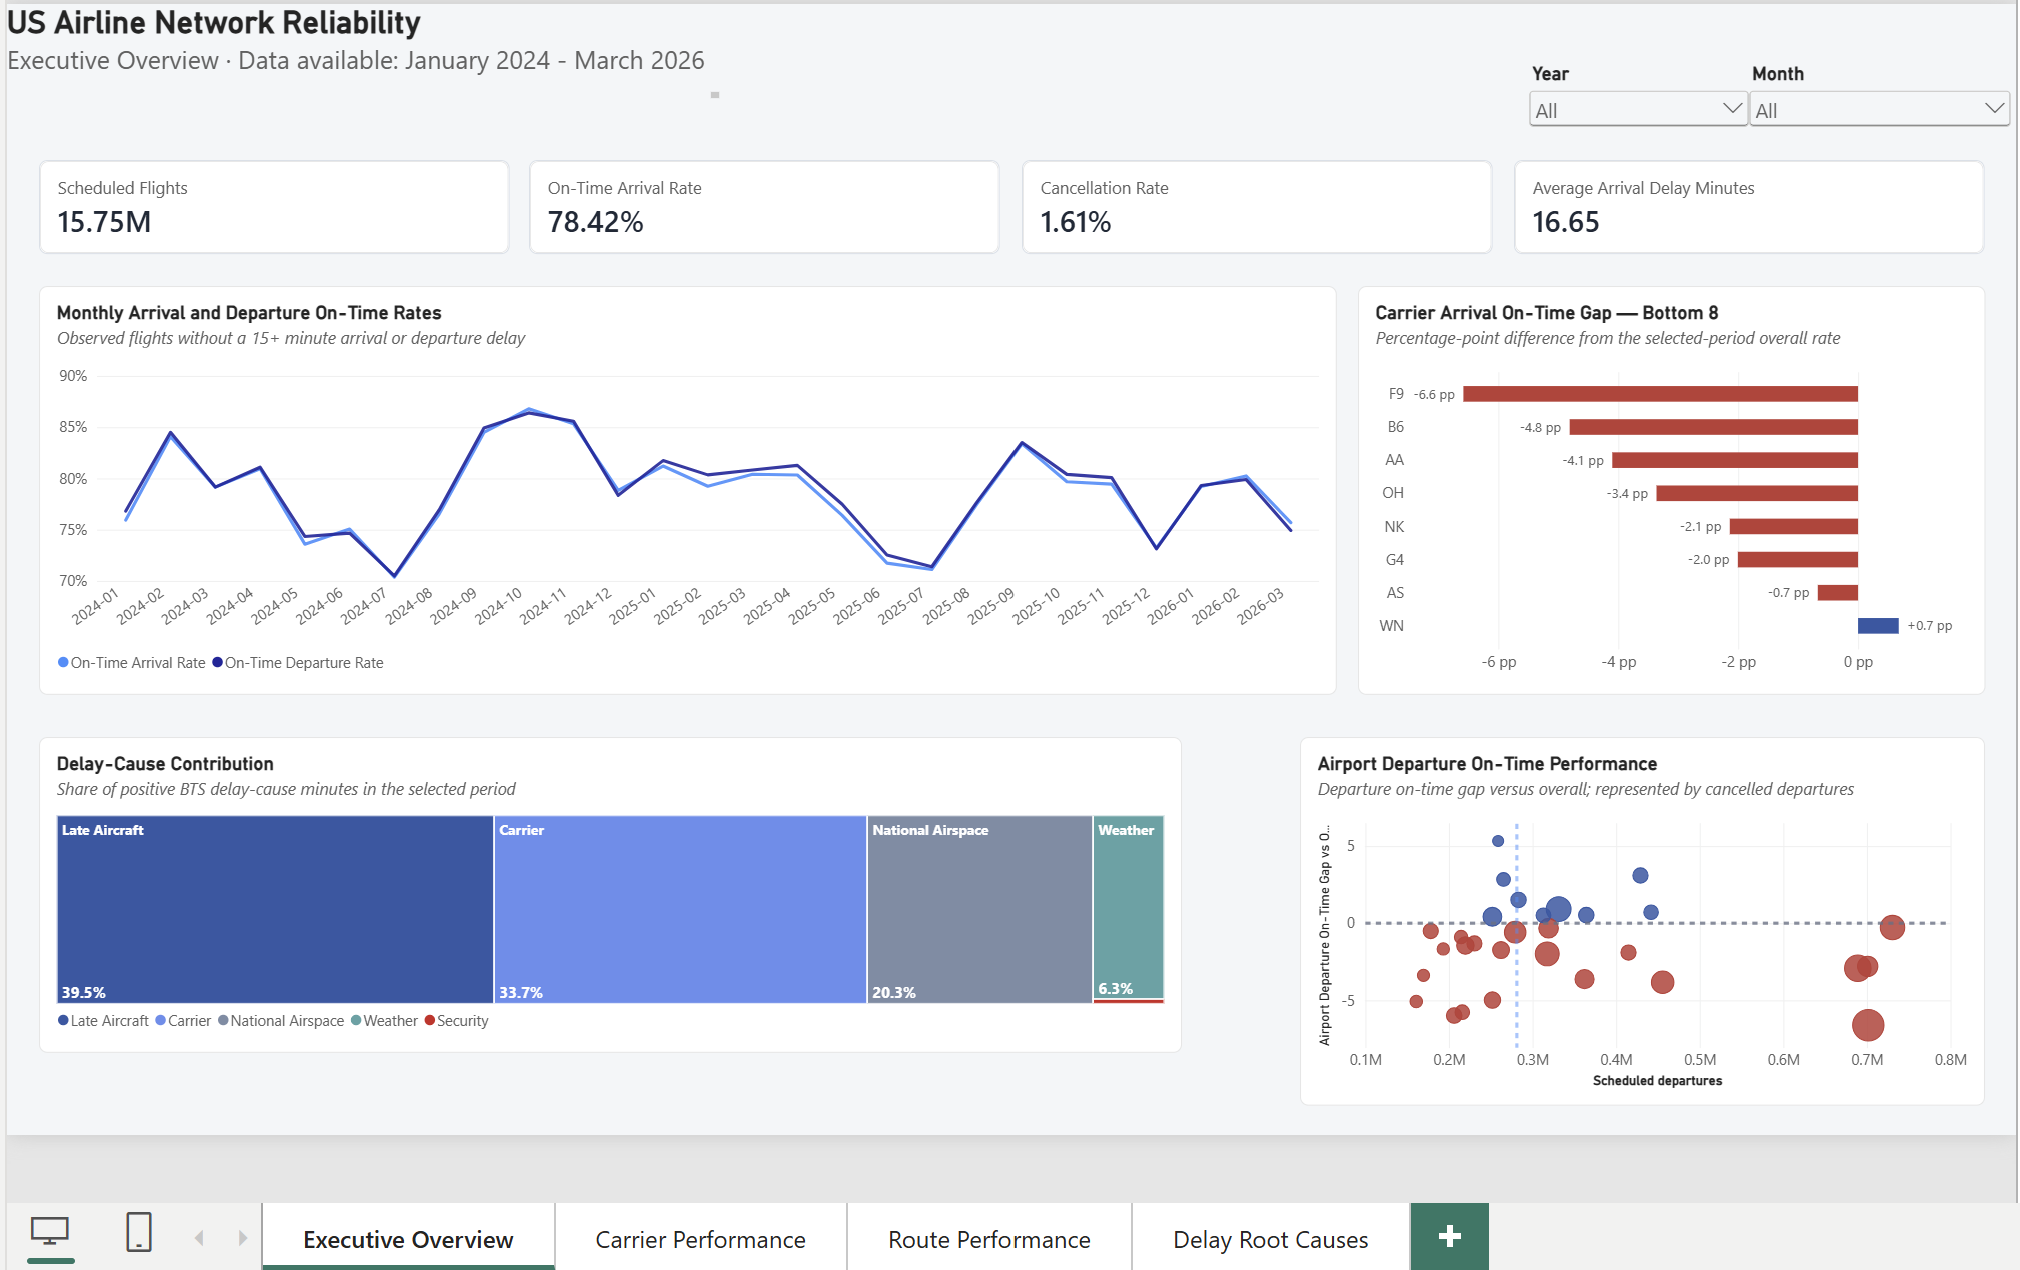

Layout of this report page (visuals, bound fields, positions):
{"tool":"powerbi","page":{"name":"Executive Overview","canvas":[1920,1080],"ordinal":0},"visuals":[{"type":"textbox","title":"US Airline Network Reliability","box":[0,0,680.8,89.9],"z":0},{"type":"lineChart","title":"Monthly Arrival and Departure On-Time Rates","fields":{"Category":["dim_date.year_month"],"Y":["_Measures.On-Time Arrival Rate","_Measures.On-Time Departure Rate"]},"box":[30,270,1240,390],"z":1000},{"type":"cardVisual","fields":{"Data":["_Measures.Scheduled Flights"]},"box":[30,150,450,90],"z":2000},{"type":"cardVisual","fields":{"Data":["_Measures.On-Time Arrival Rate"]},"box":[500,150,450,90],"z":3000},{"type":"cardVisual","fields":{"Data":["_Measures.Cancellation Rate"]},"box":[970,150,450,90],"z":4000},{"type":"cardVisual","fields":{"Data":["_Measures.Average Arrival Delay Minutes"]},"box":[1440,150,450,90],"z":5000},{"type":"slicer","title":"Reporting year","fields":{"Values":["dim_date.calendar_year"]},"box":[1450,55,220,70],"z":6000},{"type":"slicer","title":"Reporting year","fields":{"Values":["dim_date.month_name"]},"box":[1660,55,260,70],"z":7000},{"type":"clusteredBarChart","title":"Carrier Arrival On-Time Gap — Bottom 8","fields":{"Category":["dim_carrier.reporting_airline_code"],"Y":["_Measures.Arrival On-Time Gap vs Overall"]},"box":[1290.8,269.6,600,390],"z":8000},{"type":"treemap","title":"Delay-Cause Contribution","fields":{"Group":["dim_delay_cause.delay_cause_name"],"Values":["_Measures.Delay Cause Share"]},"box":[30,700,1092,302],"z":9000},{"type":"scatterChart","title":"Airport Departure On-Time Performance","fields":{"Category":["dim_airport.airport_code"],"Size":["_Measures.Airport Cancelled Departures"],"X":["_Measures.Airport Scheduled Departures"],"Y":["_Measures.Airport Departure On-Time Gap vs Overall"]},"box":[1235,700,655,352.5],"z":10000}]}

Visuals, with their boxes on the page's 1920x1080 design canvas (x1, y1, x2, y2). These are canvas units, not pixel positions in the 2020x1270 screenshot, which may show the page scaled, cropped or inside an application window:
"US Airline Network Reliability" textbox: {"x1": 0, "y1": 0, "x2": 681, "y2": 90}
"Monthly Arrival and Departure On-Time Rates" lineChart: {"x1": 30, "y1": 270, "x2": 1270, "y2": 660}
cardVisual - _Measures.Scheduled Flights: {"x1": 30, "y1": 150, "x2": 480, "y2": 240}
cardVisual - _Measures.On-Time Arrival Rate: {"x1": 500, "y1": 150, "x2": 950, "y2": 240}
cardVisual - _Measures.Cancellation Rate: {"x1": 970, "y1": 150, "x2": 1420, "y2": 240}
cardVisual - _Measures.Average Arrival Delay Minutes: {"x1": 1440, "y1": 150, "x2": 1890, "y2": 240}
"Reporting year" slicer: {"x1": 1450, "y1": 55, "x2": 1670, "y2": 125}
"Reporting year" slicer: {"x1": 1660, "y1": 55, "x2": 1920, "y2": 125}
"Carrier Arrival On-Time Gap — Bottom 8" clusteredBarChart: {"x1": 1291, "y1": 270, "x2": 1891, "y2": 660}
"Delay-Cause Contribution" treemap: {"x1": 30, "y1": 700, "x2": 1122, "y2": 1002}
"Airport Departure On-Time Performance" scatterChart: {"x1": 1235, "y1": 700, "x2": 1890, "y2": 1052}
